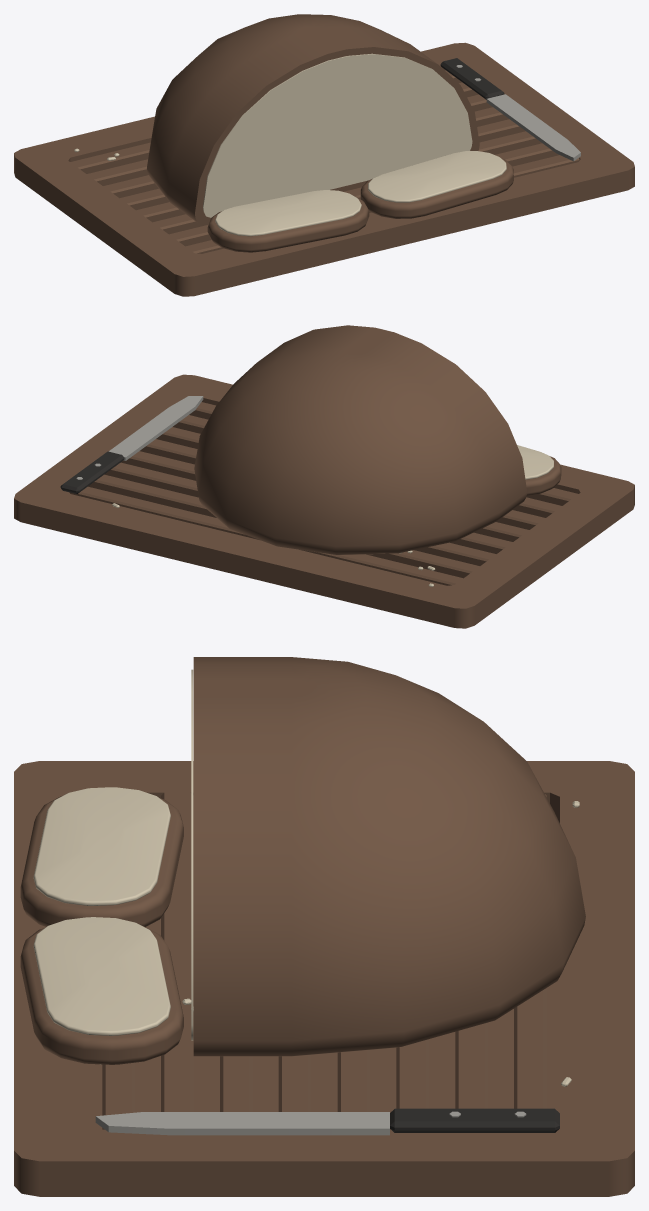
The model's file is bread-board-d602988e2877.glb.
3 views of the same model, one above another, from view 1: azimuth 30°, elevation 25°; view 2: azimuth 150°, elevation 25°; view 3: azimuth 270°, elevation 25° (orthographic). The views are drawn at different scales.
Parts seen in each view (by area): view 1: wood, paper, brushed, plastic-dark; view 2: wood, brushed, plastic-dark, paper; view 3: wood, paper, brushed, plastic-dark.
Part boxes in pixels (x1=…): wood: x1=14, y1=14, x2=634, y2=296; paper: x1=74, y1=53, x2=506, y2=236; brushed: x1=456, y1=65, x2=580, y2=161; plastic-dark: x1=440, y1=58, x2=504, y2=99; wood: x1=14, y1=325, x2=634, y2=628; brushed: x1=76, y1=396, x2=203, y2=479; plastic-dark: x1=60, y1=451, x2=124, y2=493; paper: x1=112, y1=445, x2=553, y2=586; wood: x1=14, y1=657, x2=634, y2=1196; paper: x1=33, y1=669, x2=579, y2=1086; brushed: x1=95, y1=1111, x2=526, y2=1135; plastic-dark: x1=390, y1=1108, x2=559, y2=1132.
Size of the model in its own units: 0.29 by 0.097 by 0.19.
